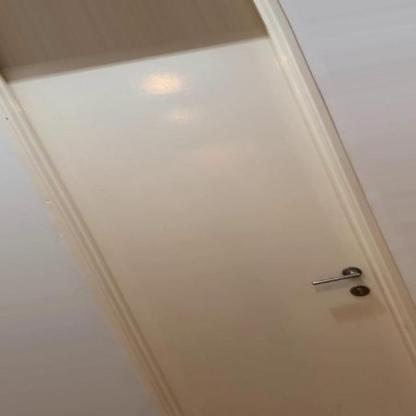door: (0, 0, 416, 408)
